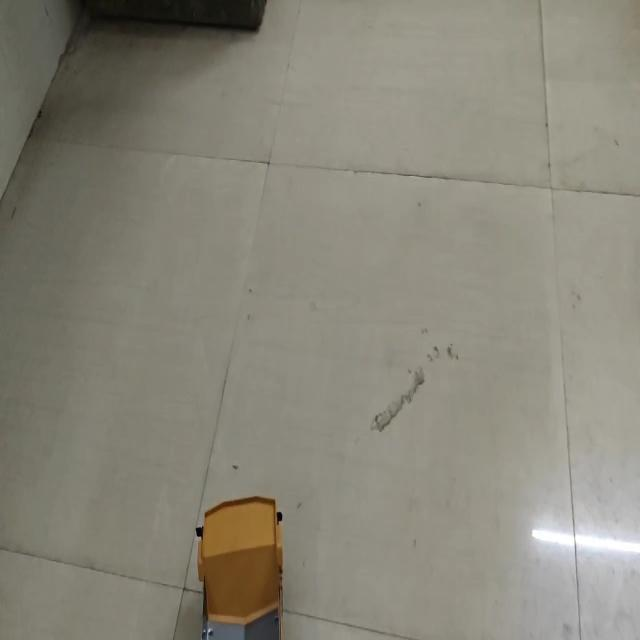dump_truck: (187, 490, 290, 640)
